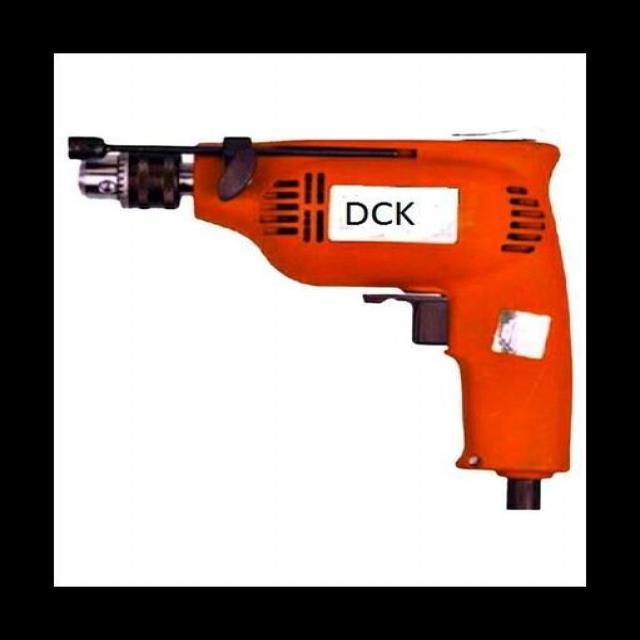drill: (67, 130, 576, 512)
